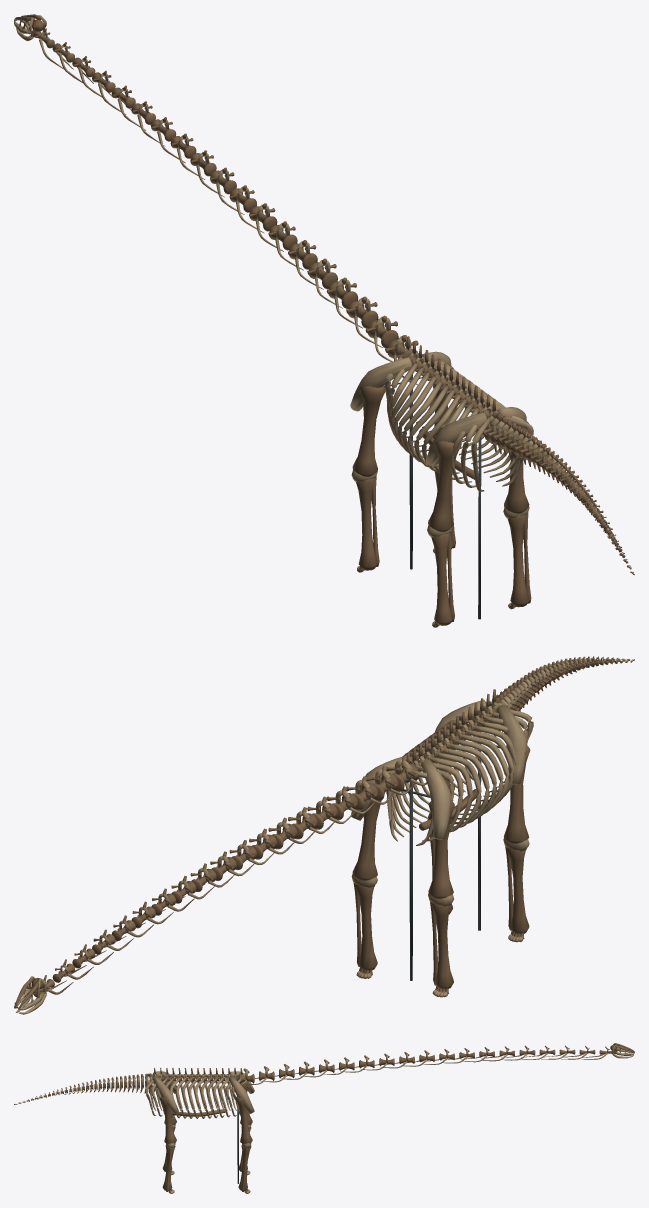
The picture shows the model from 3 angles, top to bottom: view 1: azimuth 30°, elevation 25°; view 2: azimuth 150°, elevation 25°; view 3: azimuth 270°, elevation 25°; orthographic projection. The views are drawn at different scales.
Visible parts, largest first — view 1: D01_SPEC_Fossil umber_export, D01_SPEC_Fossil ridge_export, D01_SPEC_Mount steel_export; view 2: D01_SPEC_Fossil umber_export, D01_SPEC_Fossil ridge_export, D01_SPEC_Mount steel_export; view 3: D01_SPEC_Fossil ridge_export, D01_SPEC_Fossil umber_export.
Boxes of the visible parts, x1=… form: D01_SPEC_Fossil umber_export: x1=14, y1=14, x2=634, y2=627; D01_SPEC_Fossil ridge_export: x1=14, y1=15, x2=633, y2=627; D01_SPEC_Mount steel_export: x1=383, y1=374, x2=481, y2=619; D01_SPEC_Fossil umber_export: x1=14, y1=656, x2=634, y2=1008; D01_SPEC_Fossil ridge_export: x1=14, y1=657, x2=633, y2=1014; D01_SPEC_Mount steel_export: x1=402, y1=731, x2=499, y2=980; D01_SPEC_Fossil ridge_export: x1=19, y1=1043, x2=634, y2=1193; D01_SPEC_Fossil umber_export: x1=14, y1=1043, x2=634, y2=1192.
Bounding box in the file's own units: 2.42 × 6.4 × 25.81.
